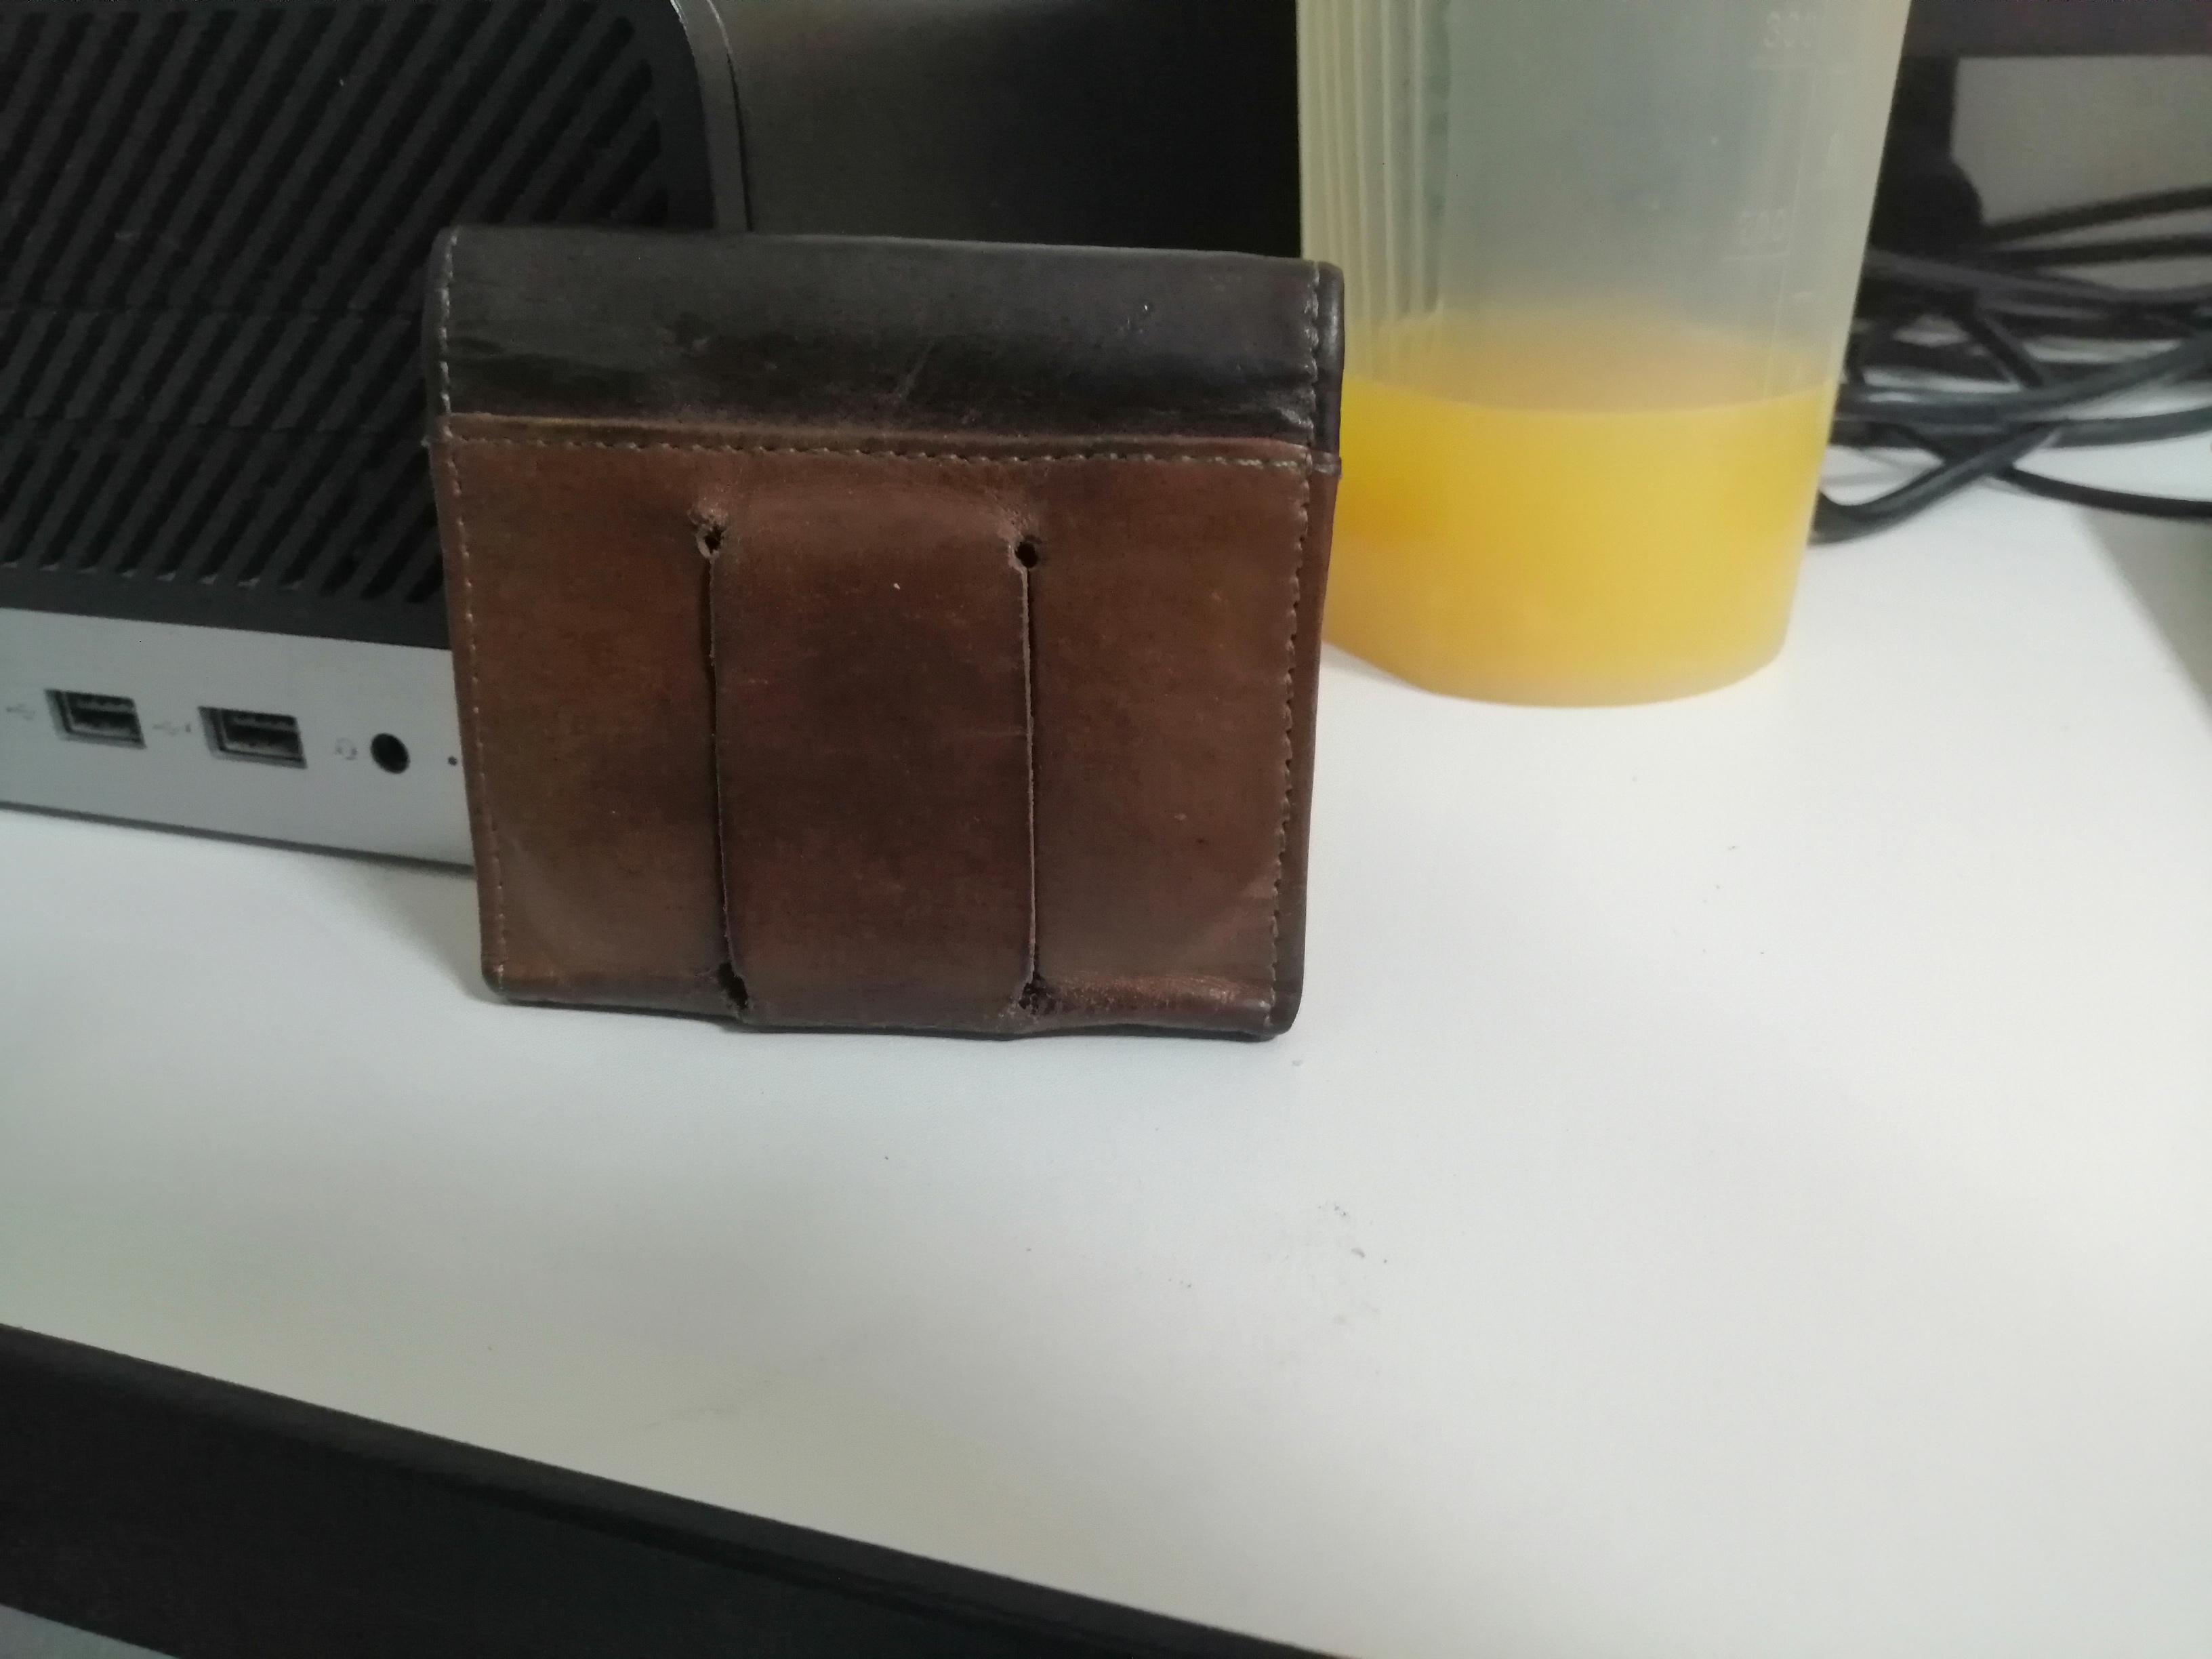monedero: (388, 199, 1404, 1096)
